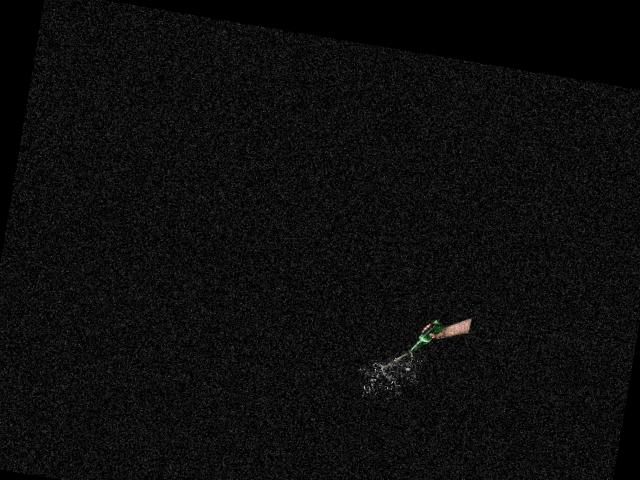beer: (409, 315, 445, 358)
